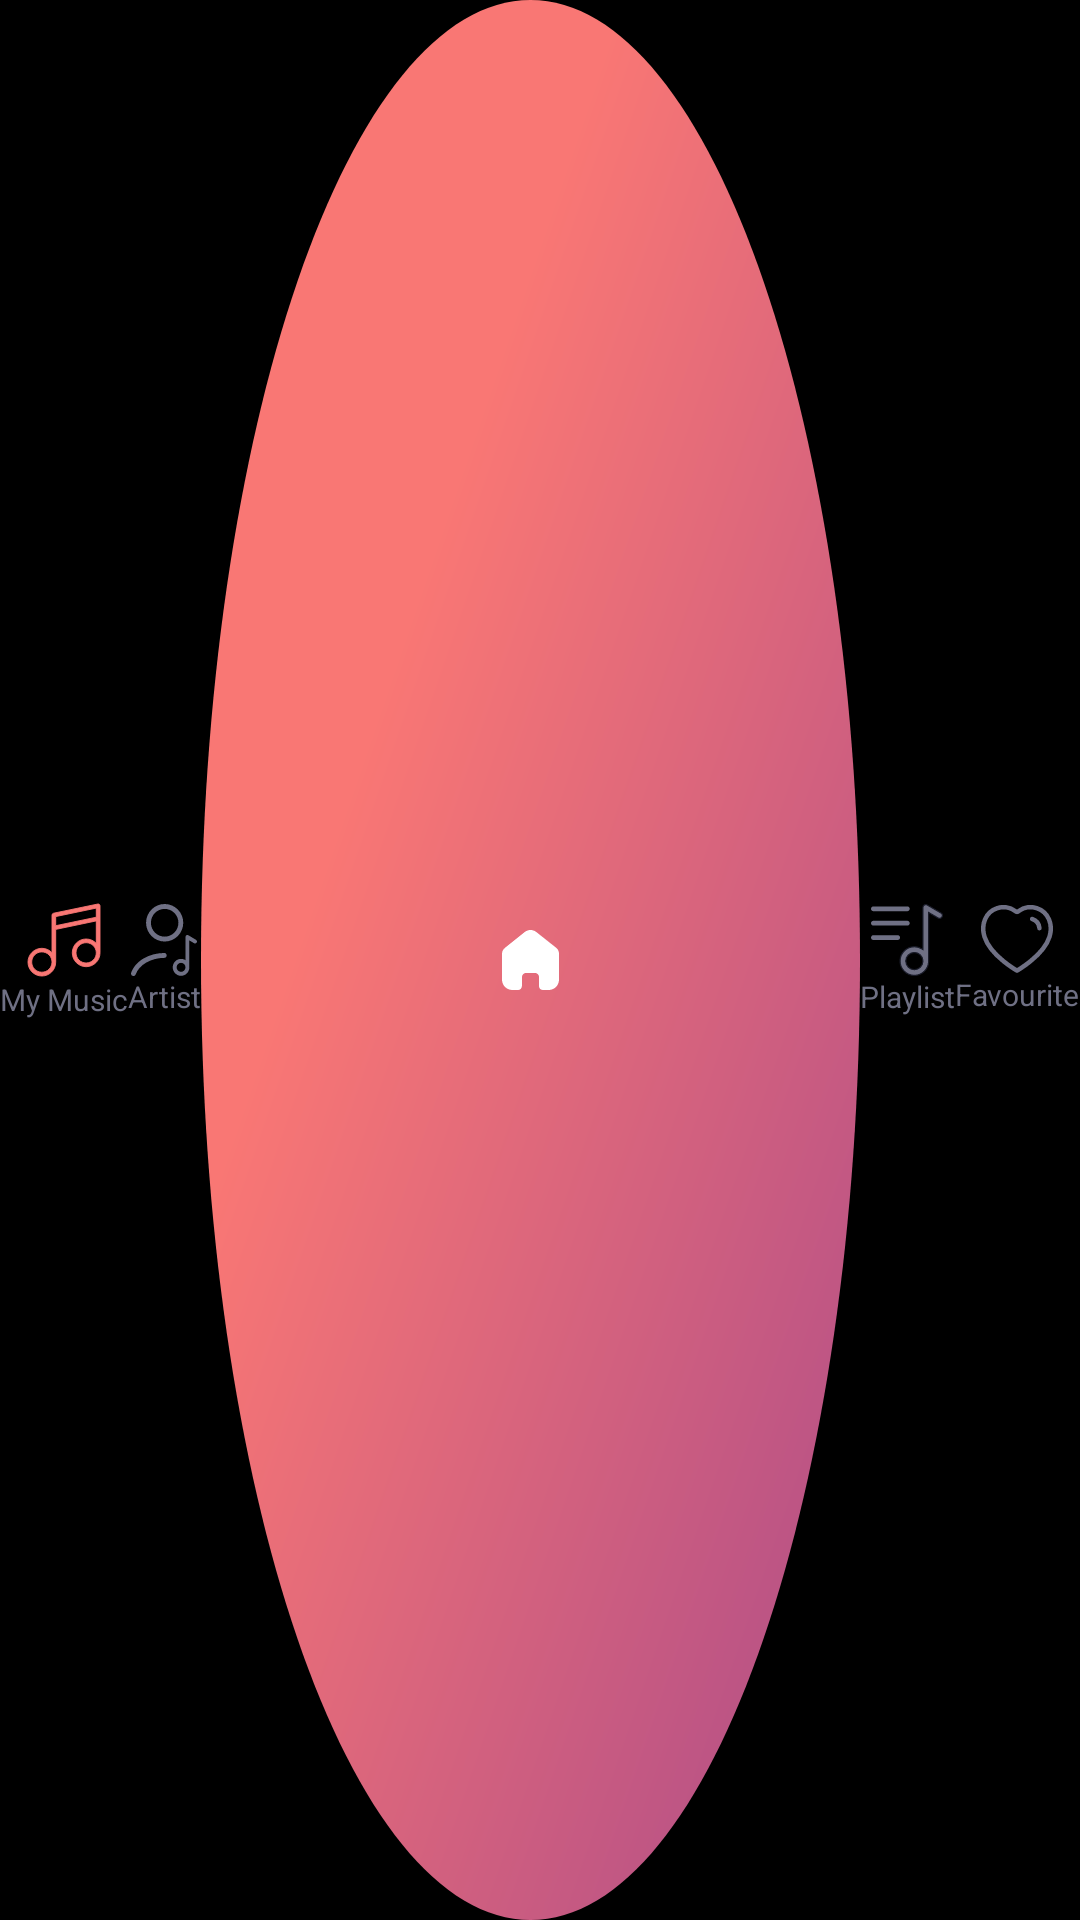

Icons on this 1080×1920 Android screen, each with its box as (x1=x1, y1=y1, x2=x2, y2=y2):
home: (x1=502, y1=930, x2=559, y2=990)
